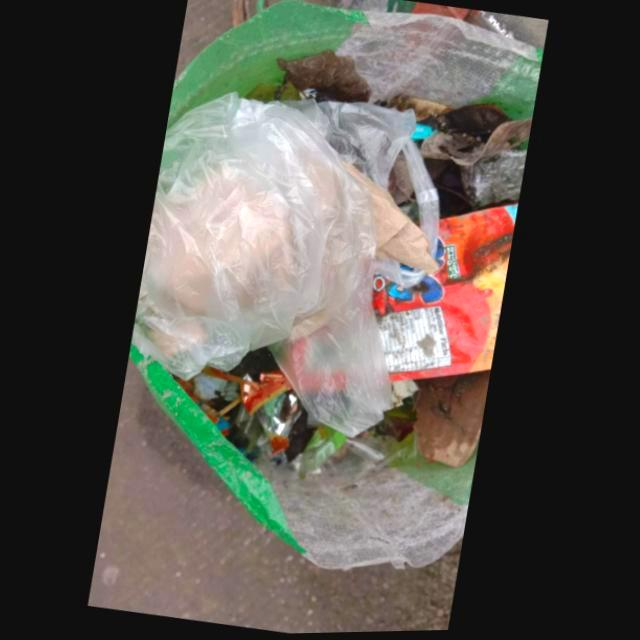paper: (348, 168, 439, 278)
plastic_bag: (135, 93, 440, 443)
plastic_sachet: (372, 206, 518, 384)
